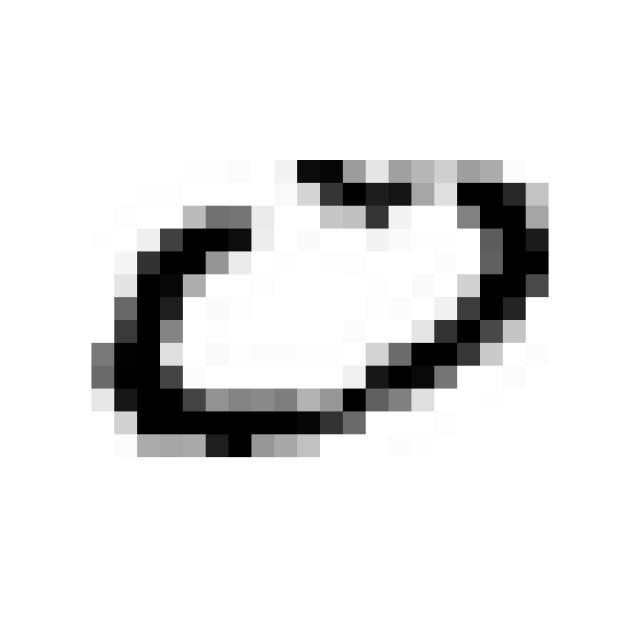5 -five-: (68, 130, 564, 473)
